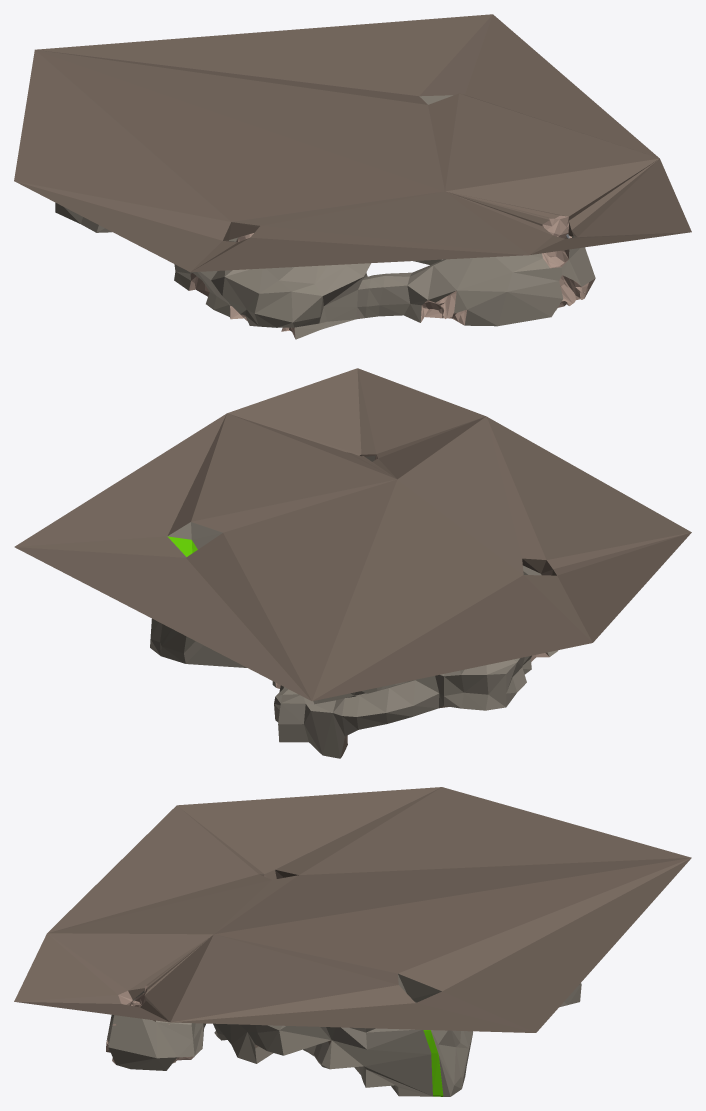
File: Cave.fbx
3 renders of one model, top to bottom at view 1: azimuth 30°, elevation 25°; view 2: azimuth 150°, elevation 25°; view 3: azimuth 270°, elevation 25°, orthographic. The views are drawn at different scales.
Parts seen in each view (by area): view 1: pasted__tall rock!5; view 2: pasted__tall rock!5; view 3: pasted__tall rock!5.
Part boxes in pixels (x1=…): pasted__tall rock!5: x1=14, y1=14, x2=691, y2=339; pasted__tall rock!5: x1=14, y1=368, x2=691, y2=758; pasted__tall rock!5: x1=14, y1=787, x2=691, y2=1096.
Bounding box in the file's own units: 11539 × 2556 × 13304.
